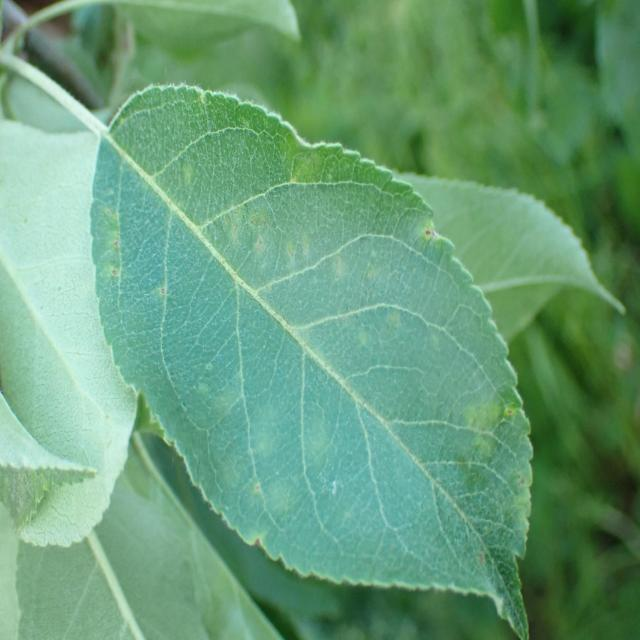scab: (81, 65, 532, 590)
